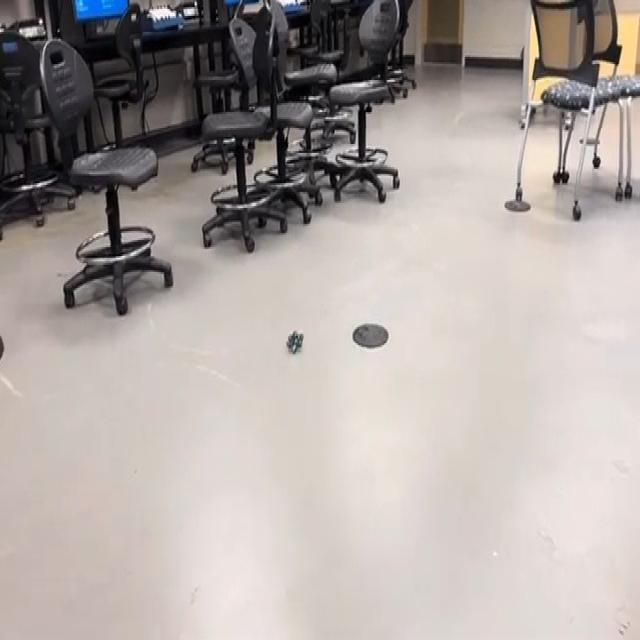drone: (281, 318, 308, 361)
